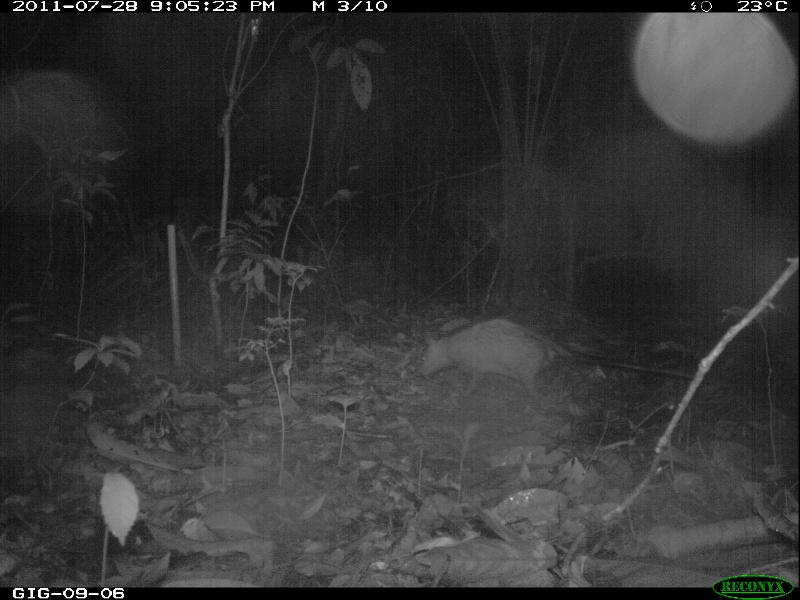opossum: (420, 315, 653, 404)
